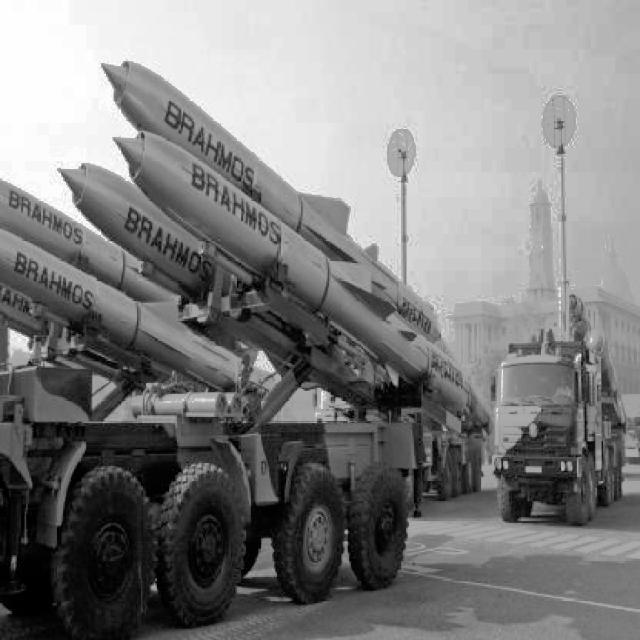HCV: (500, 318, 614, 511)
